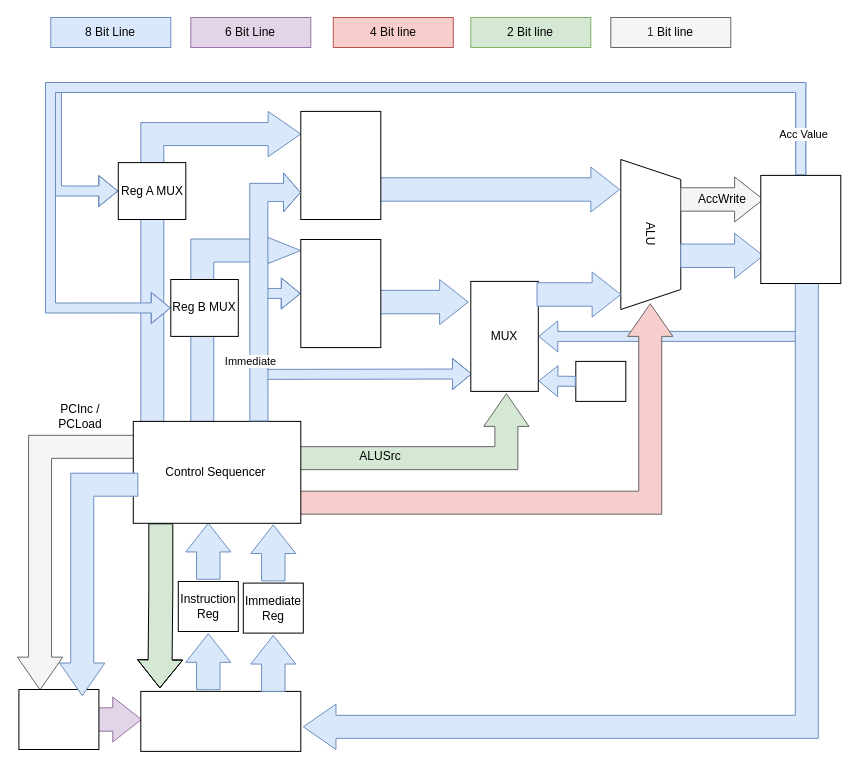
This 859x769 diagram has some shape labels left out. Here are the shapes that lost their labels. From the top down, the centre of each, then its label:
At (x=340, y=165): "Reg A".
At (x=800, y=229): "Acc".
At (x=340, y=293): "Reg B".
At (x=600, y=380): "Zero".
At (x=483, y=408): "ALUOp".
At (x=58, y=719): "PC".
At (x=220, y=720): "I/O (Test Script)".
